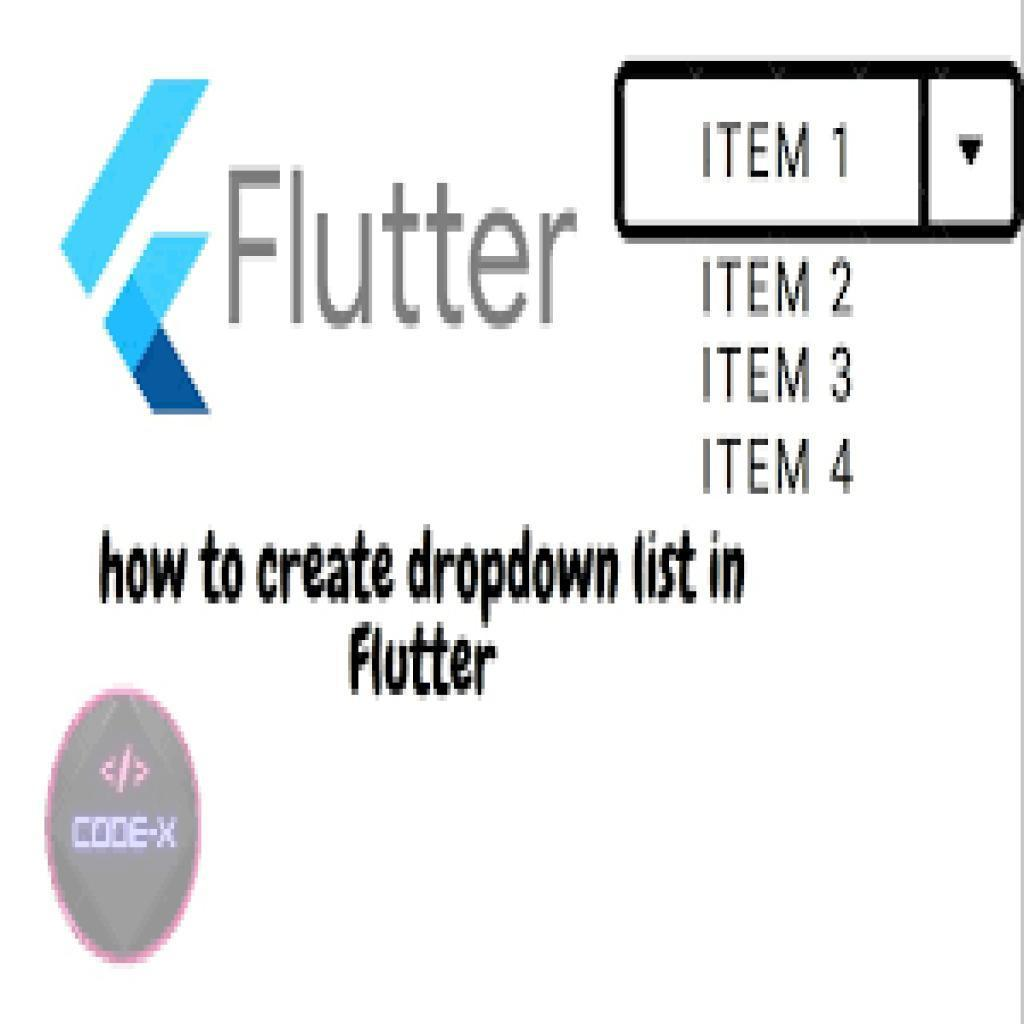dropdown: (614, 61, 1022, 246)
